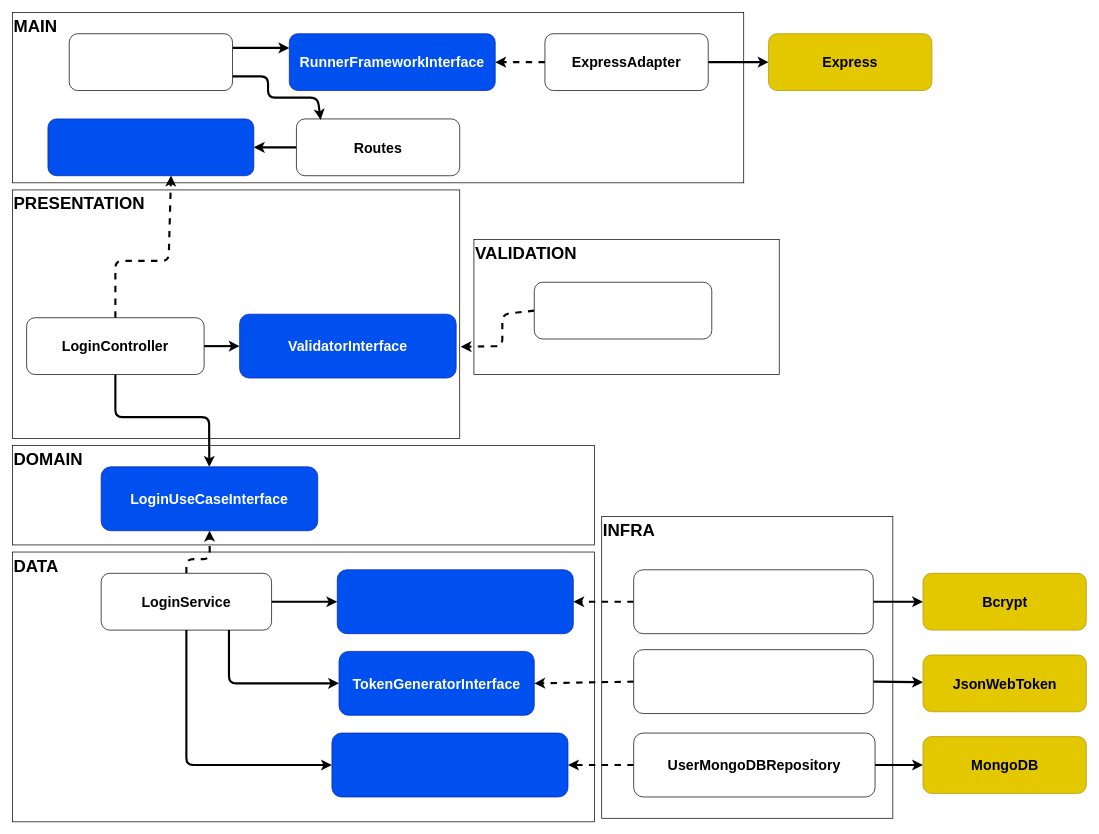
The diagram is 1099 pixels wide and 834 high, and some of its shapes have lost their labels. The shapes that lost their labels are listed below. From the top down, each one's box as (x1, y1, x2, y2) in pixels, then its label:
(69, 33, 233, 91): AppRunner
(47, 118, 254, 176): ControllerInterface
(534, 282, 712, 339): RequiredFieldValidator
(337, 569, 573, 634): PasswordHashCheckerInterface
(633, 569, 873, 634): BcryptAdapter
(633, 649, 873, 714): JwtAdapter
(331, 732, 568, 797): GetUserByIdRepositoryInterface
